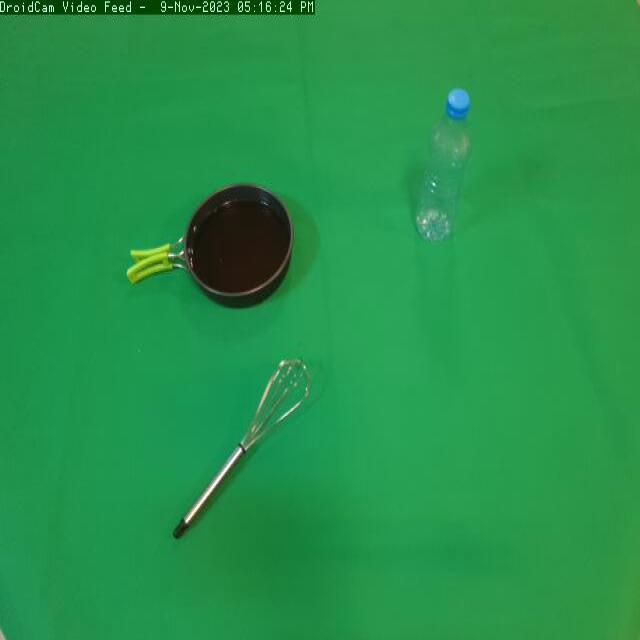bottle: (406, 66, 489, 289)
fullpan: (121, 177, 325, 330)
whisk: (166, 343, 344, 572)
